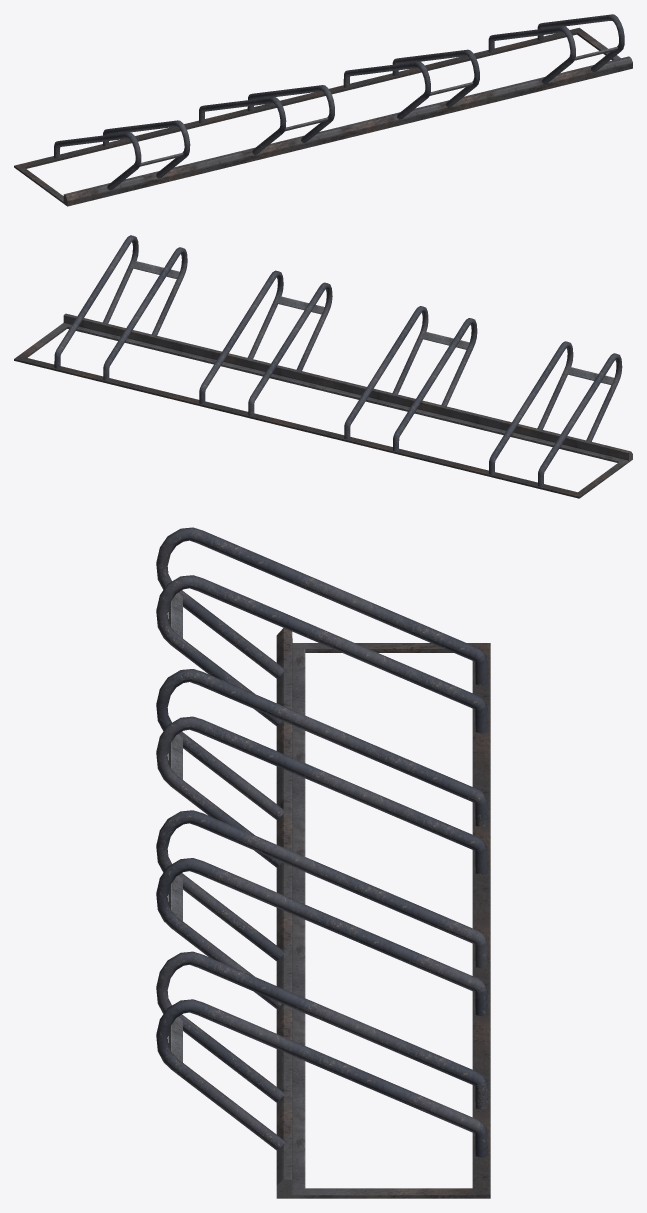
File: Bike_Rack.glb
The picture shows the model from 3 angles, top to bottom: view 1: azimuth 30°, elevation 25°; view 2: azimuth 150°, elevation 25°; view 3: azimuth 270°, elevation 25°; orthographic projection. The views are drawn at different scales.
Visible parts, largest first — view 1: Bike_Rack__LOD3; view 2: Bike_Rack__LOD3; view 3: Bike_Rack__LOD3.
Part boxes in pixels (bbox=[...]): Bike_Rack__LOD3: bbox=[14, 14, 632, 206]; Bike_Rack__LOD3: bbox=[14, 235, 632, 498]; Bike_Rack__LOD3: bbox=[156, 527, 490, 1198].
Size of the model in its own units: 2.52 by 0.3379 by 0.6464.
Materials: 1 (1 with a texture image).
